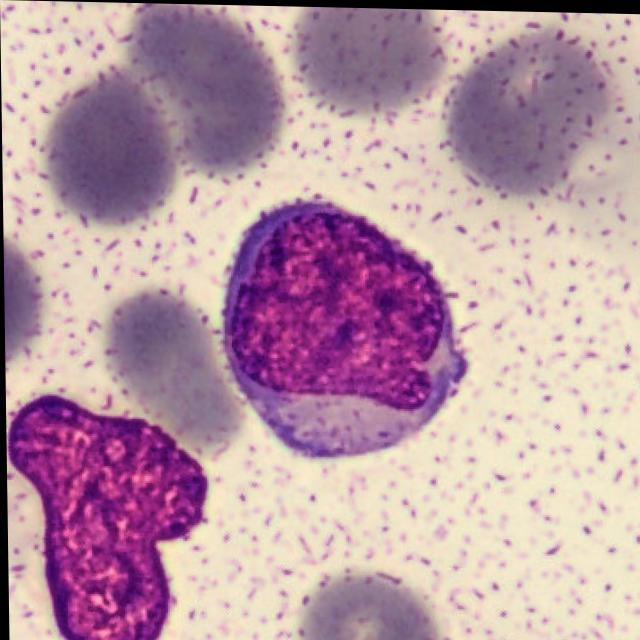Mieloblasto: (222, 196, 467, 457)
Restos celulares: (5, 394, 208, 640)
